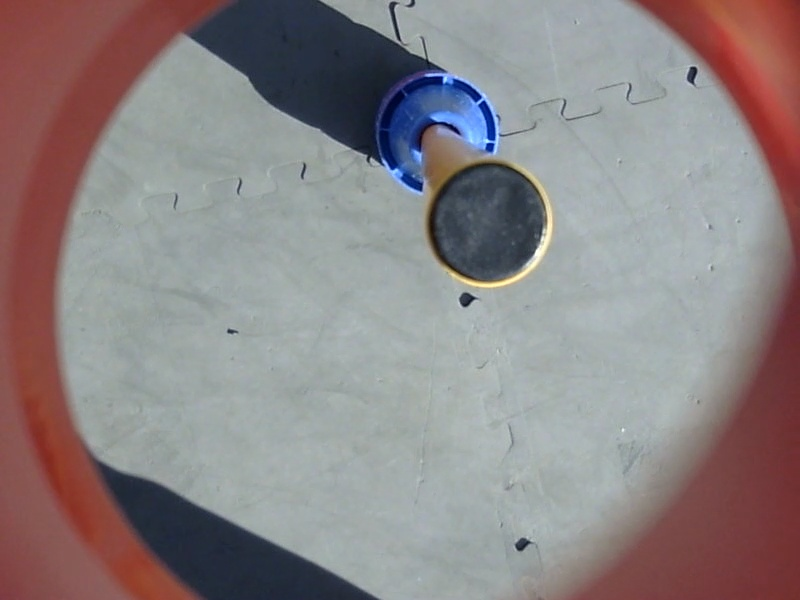tip: (421, 155, 562, 292)
